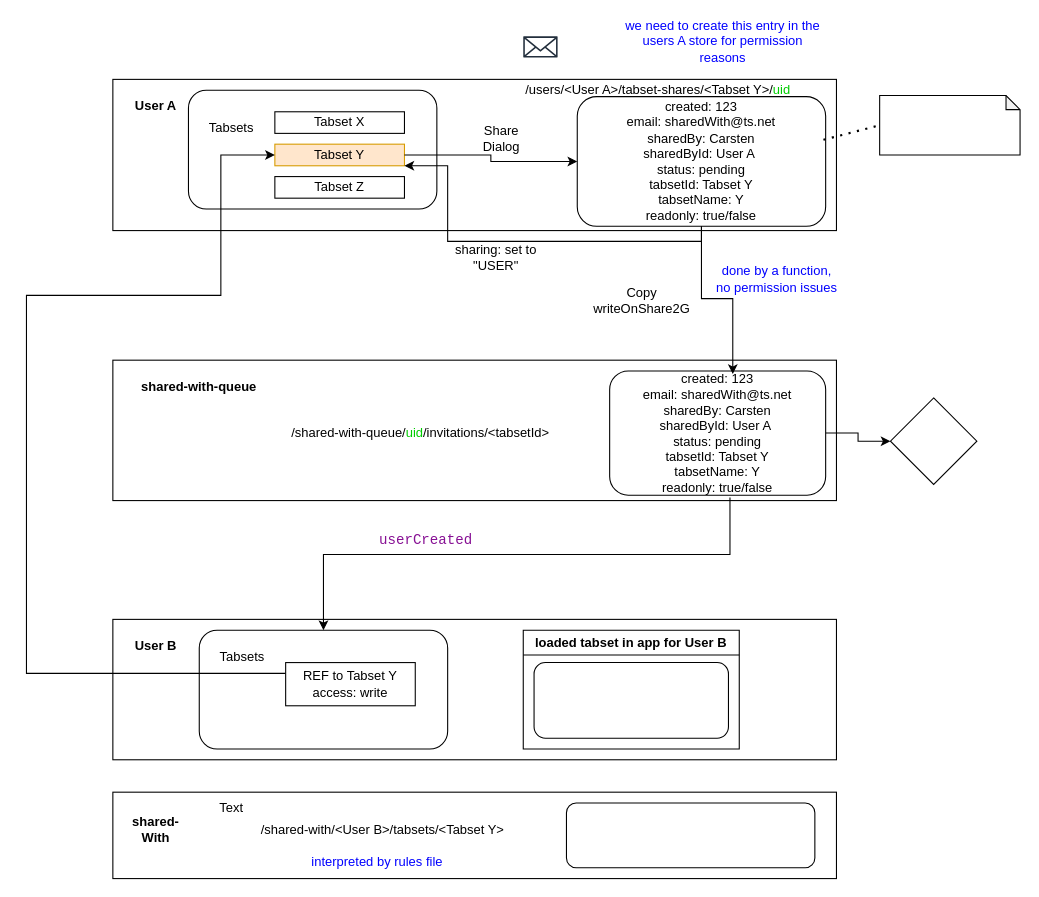
The diagram is 1039 pixels wide and 897 high, and some of its shapes have lost their labels. Each missing label, with the centre of its shape:
"... shareReference ..." belongs at (630,700).
"access: write sharedById: User A" belongs at (690,835).
"object with keys = base64(email) ???" belongs at (949,124).
"User B exists already" belongs at (933,440).
